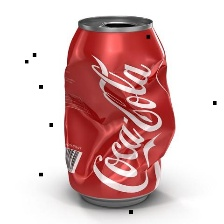can: (59, 15, 176, 214)
